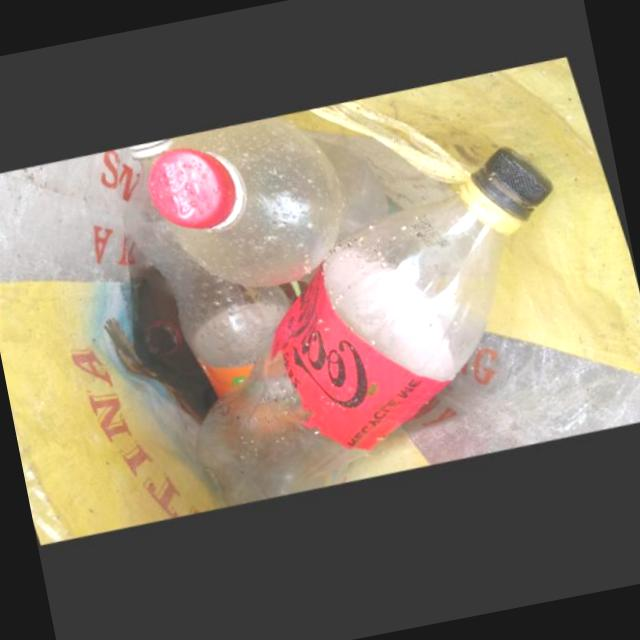chai_nhua_pet: (200, 148, 558, 513), (131, 142, 297, 403), (155, 119, 395, 291)
